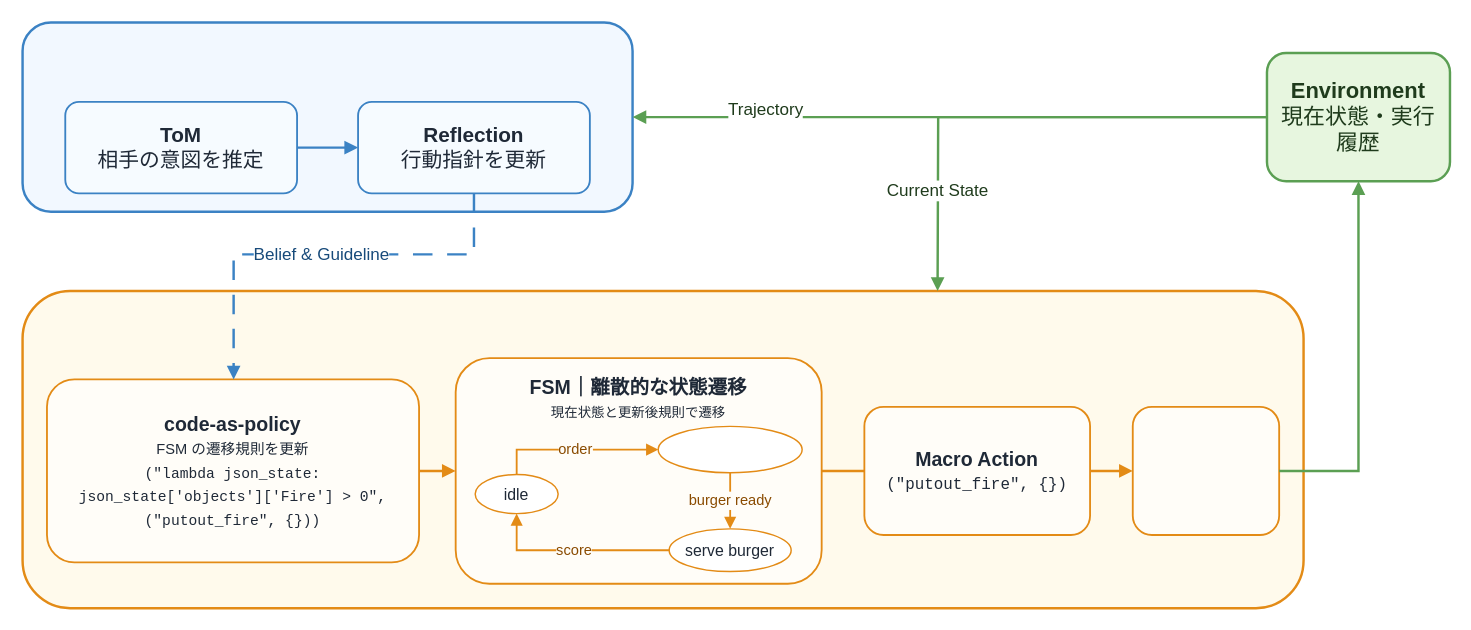
The diagram is 1471 pixels wide and 630 high, and some of its shapes have lost their labels. Here are the shapes that lost their labels. From the top down, the box of each, then its label:
(21, 21, 633, 212): System 2 ｜非同期の推論
(21, 289, 1304, 609): System 1 ｜リアルタイムの意思決定と実行
(657, 425, 802, 473): making burger
(1131, 405, 1280, 535): Executor A* planning move / interact
